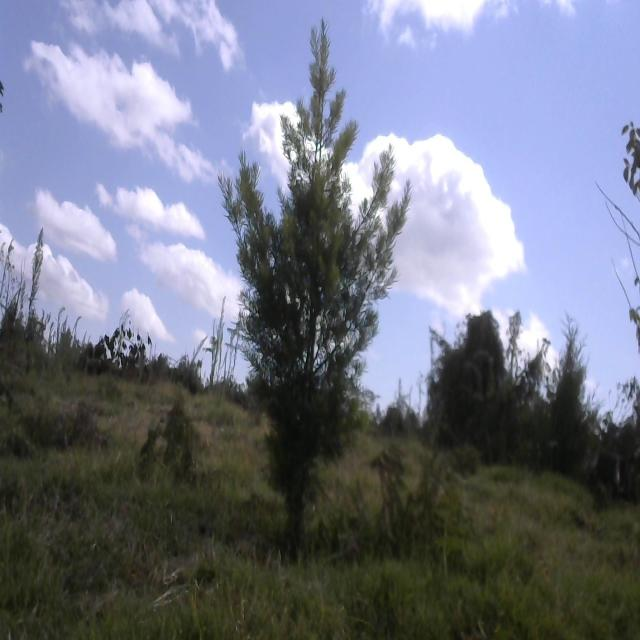Podocarpus falcatus: (218, 16, 413, 556)
